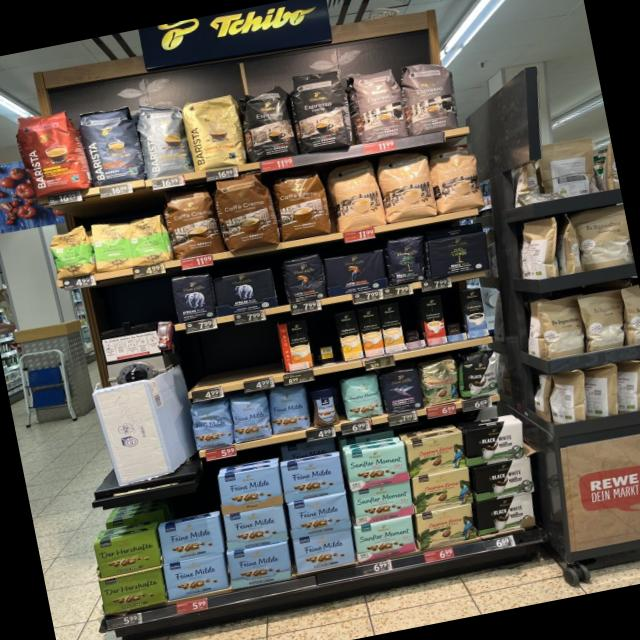AB Bohne: (168, 269, 217, 325)
AB Gemahlen: (210, 266, 278, 318)
Athiopien Bohne: (47, 223, 97, 280)
Athiopien Gemahlen: (90, 217, 134, 274), (128, 214, 170, 268)
BM Bohne: (384, 229, 434, 287)
BM Gemahlen: (424, 228, 493, 280)
BW Bohne: (459, 350, 508, 400)
BW Gemahlen: (461, 418, 528, 468), (470, 456, 538, 503), (475, 491, 537, 536)
Barista CB: (182, 92, 249, 174)
Barista CC: (133, 96, 195, 182)
Barista Espresso: (76, 100, 145, 190)
Barista Kolumbien: (10, 102, 92, 202)
C Fino Bohne: (378, 366, 426, 416)
CC Mild: (374, 145, 439, 226), (324, 155, 388, 235), (427, 137, 488, 215)
CC Vollmundig 36 Pads: (212, 170, 282, 256), (160, 182, 224, 262), (272, 164, 334, 242)
Colombia BB Bohne: (418, 356, 462, 406)
Colombia BB Gemahlen: (410, 466, 475, 514), (416, 502, 479, 550), (404, 432, 468, 478)
Empty Shelf: (181, 321, 282, 392), (305, 314, 343, 368), (398, 298, 426, 343), (441, 292, 466, 336)
Espresso Aromatisch: (347, 62, 412, 148), (400, 56, 464, 138)
Espresso Kraftig: (287, 66, 356, 158), (235, 82, 300, 166)
FM Bohne: (188, 399, 235, 452), (228, 392, 274, 444), (267, 384, 311, 436)
FM Gemahlen: (217, 464, 285, 516), (225, 542, 294, 592), (157, 515, 227, 564), (280, 453, 347, 503), (223, 504, 289, 552), (162, 554, 230, 600), (287, 492, 352, 540), (294, 529, 356, 574)
FM Instant: (308, 385, 341, 429)
Herzhatfe Mundig: (90, 530, 162, 579), (98, 568, 168, 614)
LG Bohne: (278, 250, 328, 306)
LG Gemahlen: (322, 246, 391, 298)
SM Bohne: (338, 372, 386, 424)
SM Gemahlen: (344, 439, 411, 491), (353, 516, 418, 563), (351, 480, 417, 526)
Simo CCMild bigpack: (335, 310, 364, 362), (357, 306, 385, 358)
Simo CCVollmundig: (278, 319, 314, 372)
Simo Decaff: (378, 302, 406, 353)
Simo Es Brazil: (420, 295, 448, 346)
Simo Es Vanilla: (461, 288, 489, 338)
